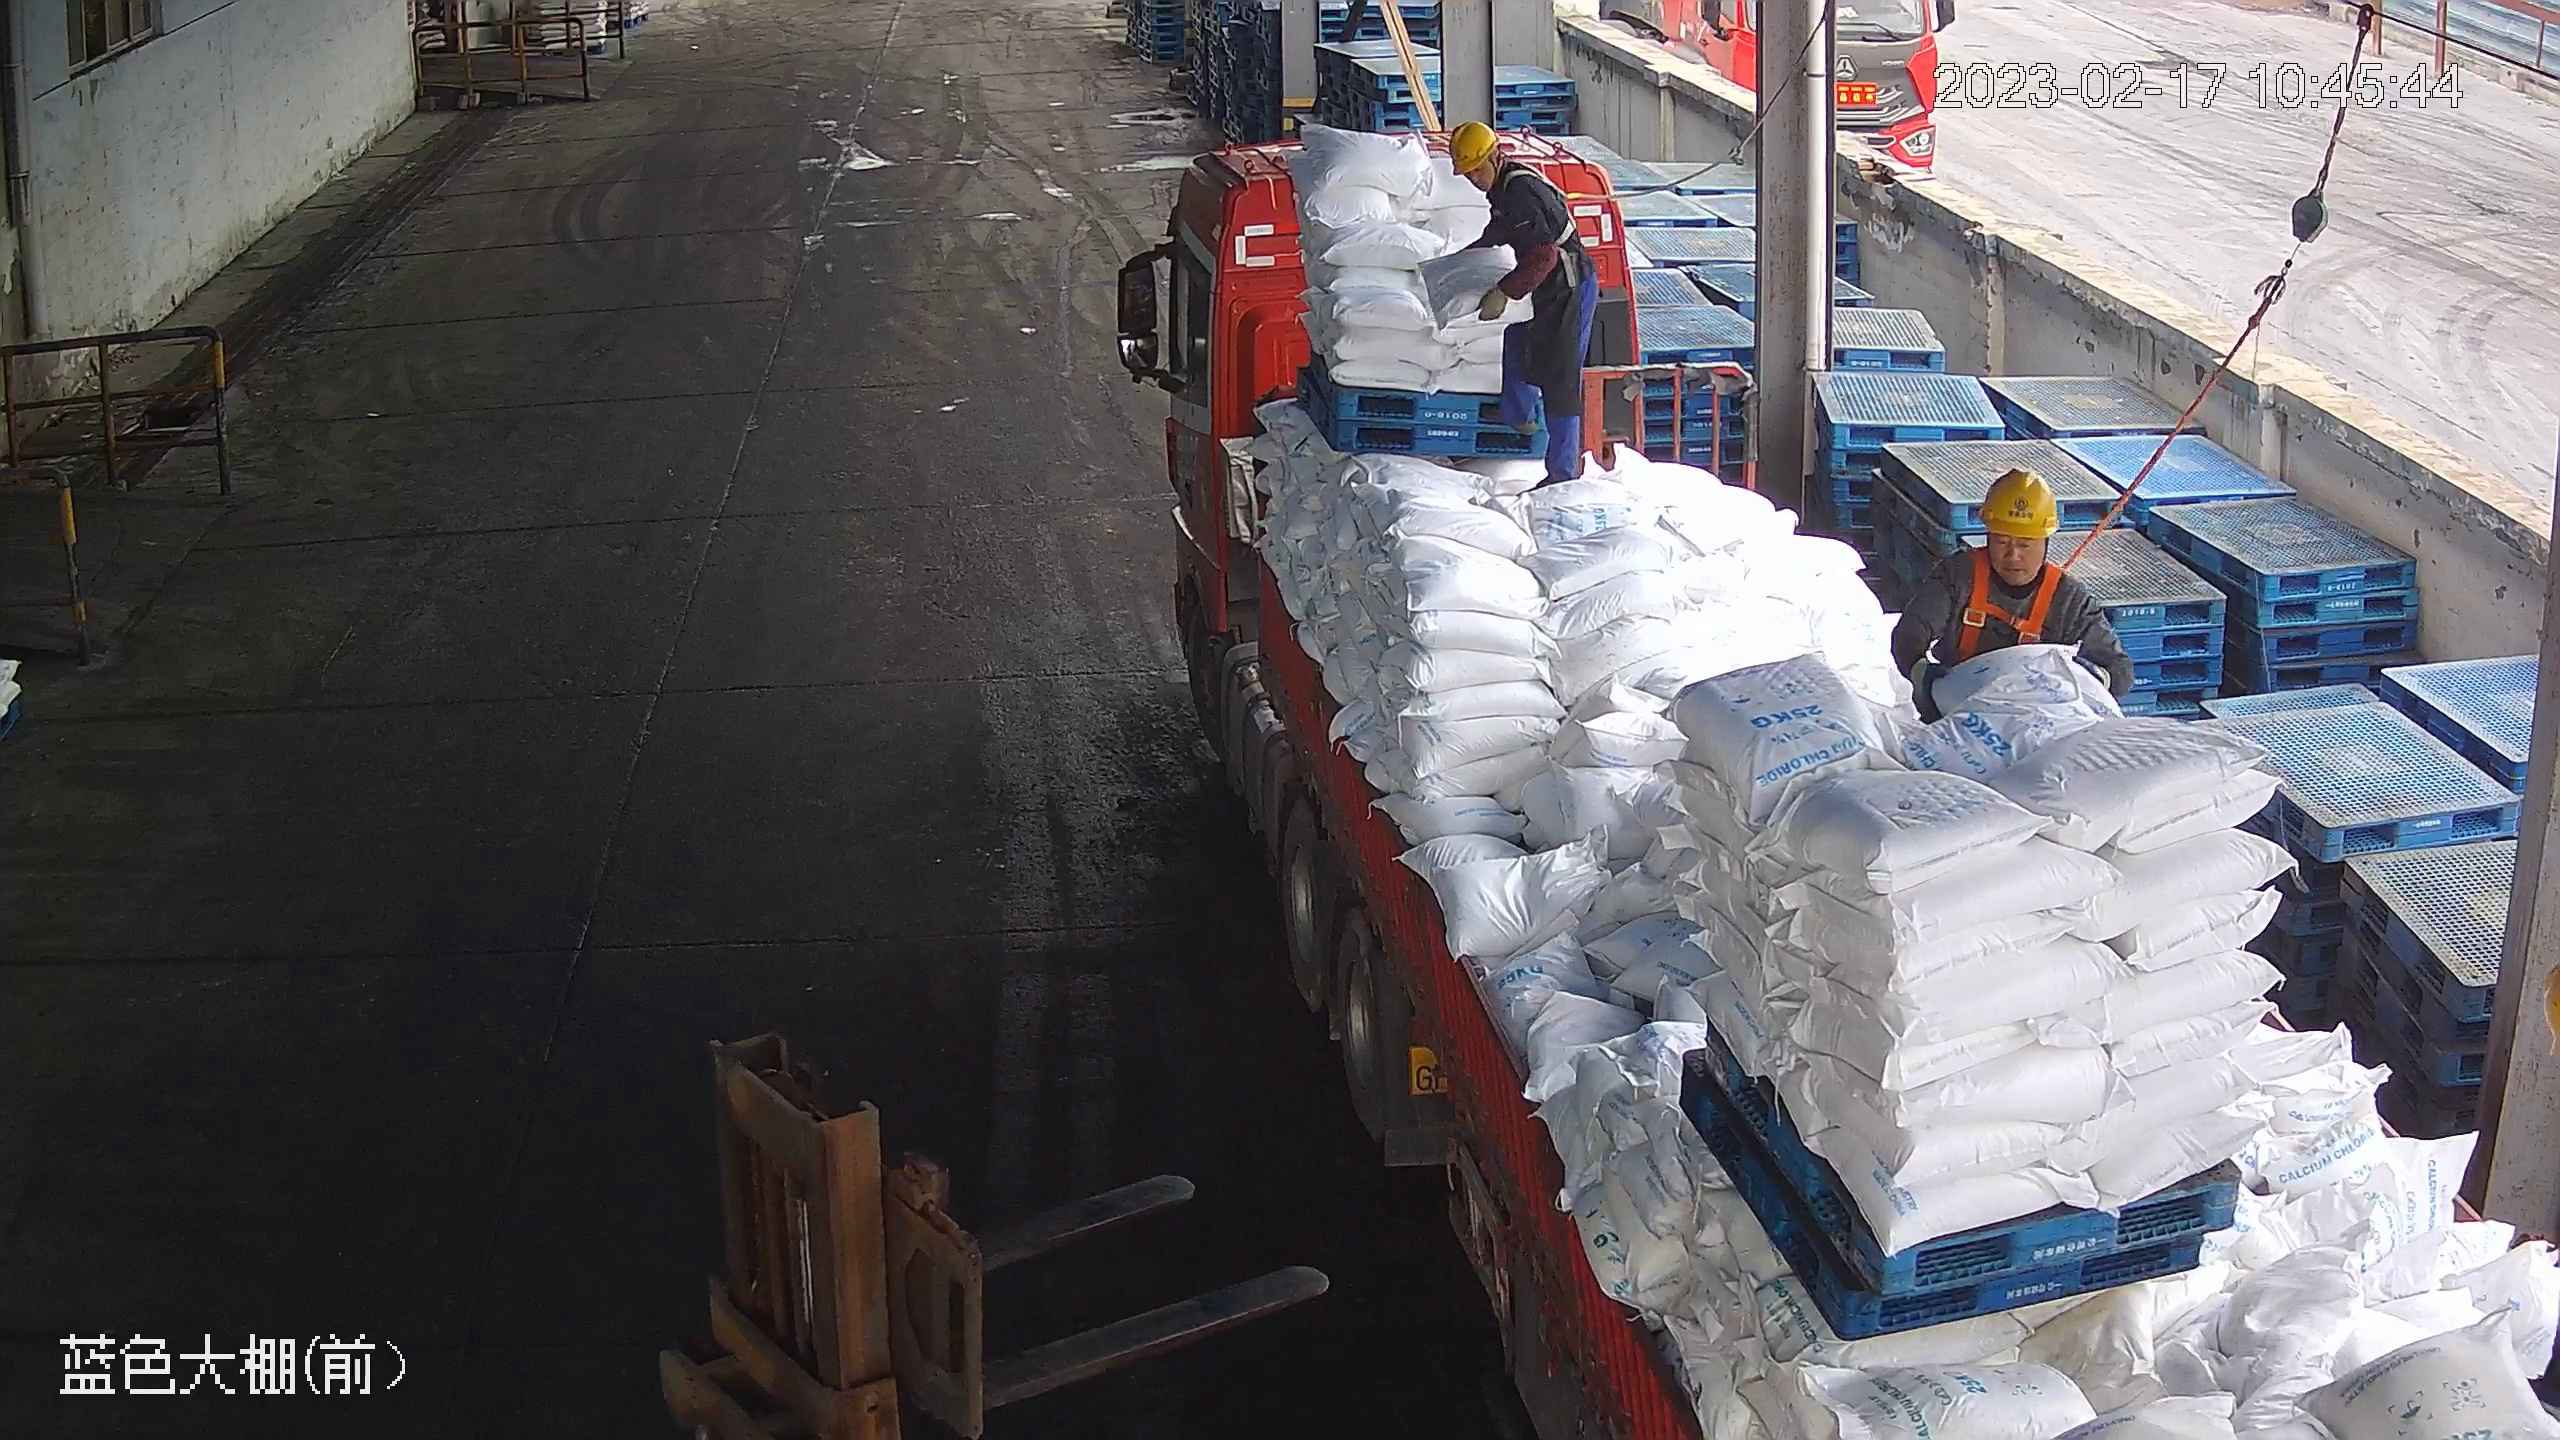belt: (1930, 550, 2078, 672), (1501, 150, 1596, 256)
head: (1890, 464, 2107, 629), (1445, 125, 1567, 257)
helmet: (1974, 466, 2059, 539), (1451, 118, 1501, 179)
people: (1440, 123, 1601, 493)
truck: (1118, 123, 2560, 1440)
